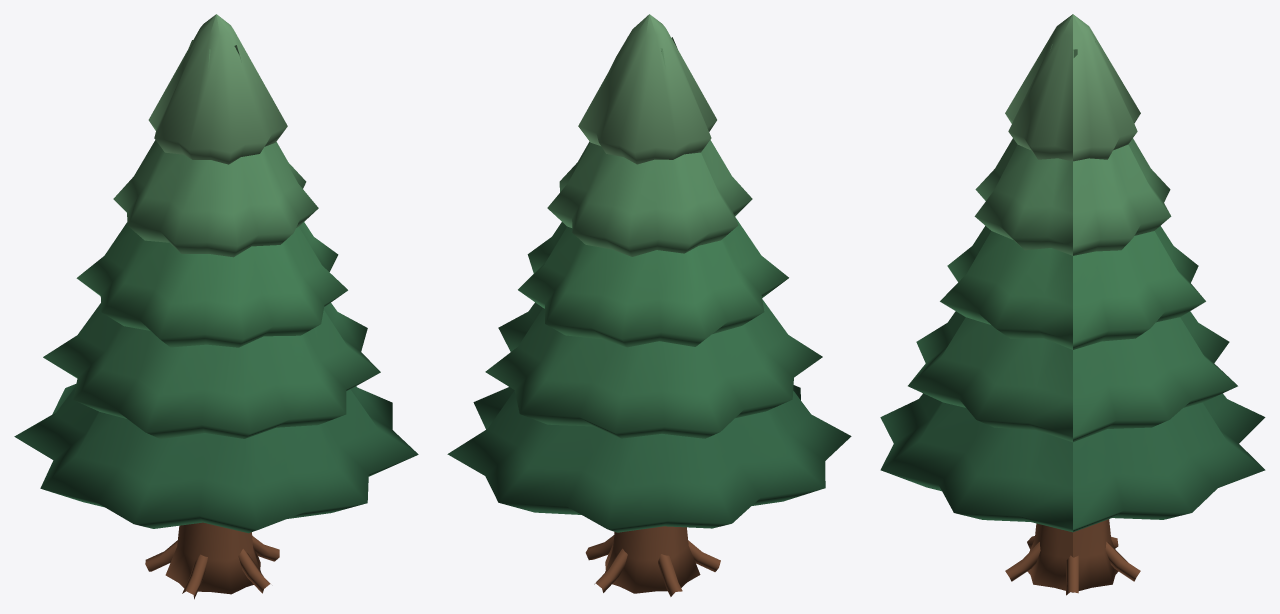
Rendered from pino_lod.glb.
3 views of the same model, side by side, from view 1: azimuth 30°, elevation 25°; view 2: azimuth 150°, elevation 25°; view 3: azimuth 270°, elevation 25° (orthographic).
Parts seen in each view (by area): view 1: pino_ramas_viento_0, pino; view 2: pino_ramas_viento_0, pino; view 3: pino_ramas_viento_0, pino.
Boxes of the visible parts, left/top/right/bottom form: pino_ramas_viento_0: left=14, top=14, right=418, bottom=533; pino: left=145, top=522, right=279, bottom=599; pino_ramas_viento_0: left=447, top=14, right=851, bottom=532; pino: left=585, top=526, right=720, bottom=596; pino_ramas_viento_0: left=880, top=14, right=1265, bottom=532; pino: left=1005, top=519, right=1140, bottom=595.
Size of the model in its own units: 1.56 by 2.37 by 1.48.
